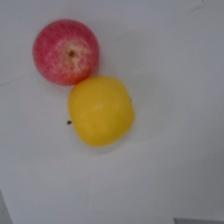red: (33, 19, 99, 84)
yellow: (67, 76, 135, 146)
